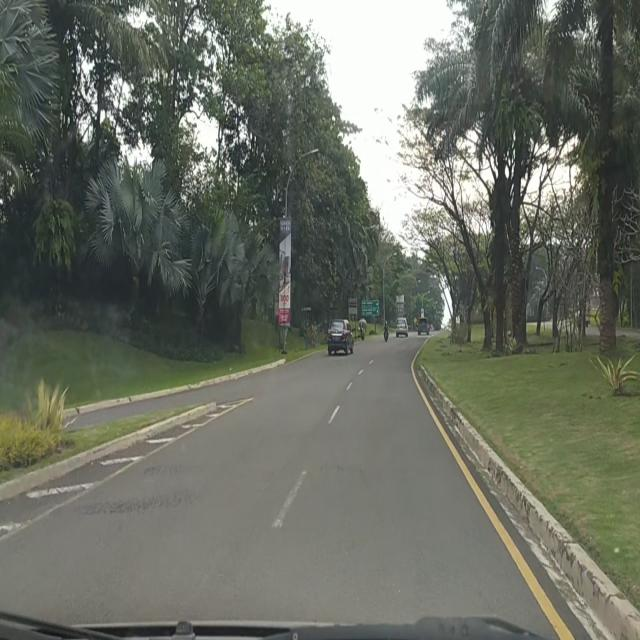Drain Hole: (64, 484, 184, 520), (137, 462, 200, 478)
